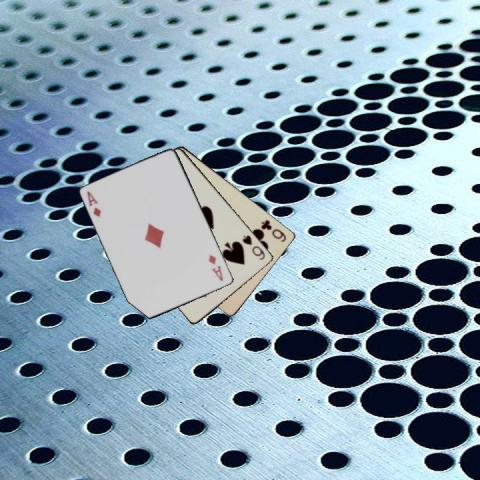6c: (258, 217, 288, 243)
6s: (239, 232, 267, 261)
Ad: (205, 251, 225, 283), (84, 188, 103, 219)
